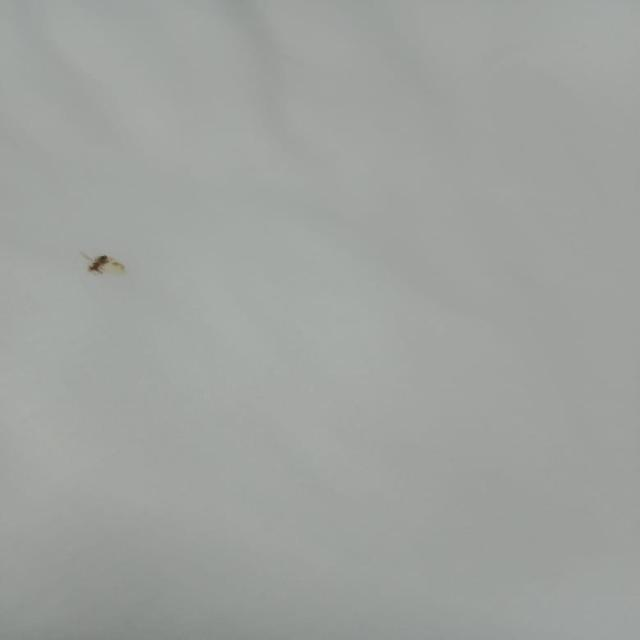stain: (69, 245, 132, 283)
